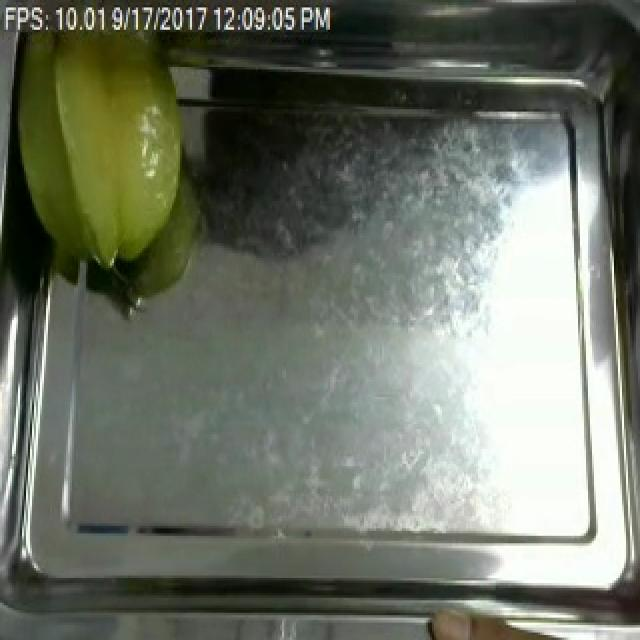fruit: (4, 17, 200, 283)
